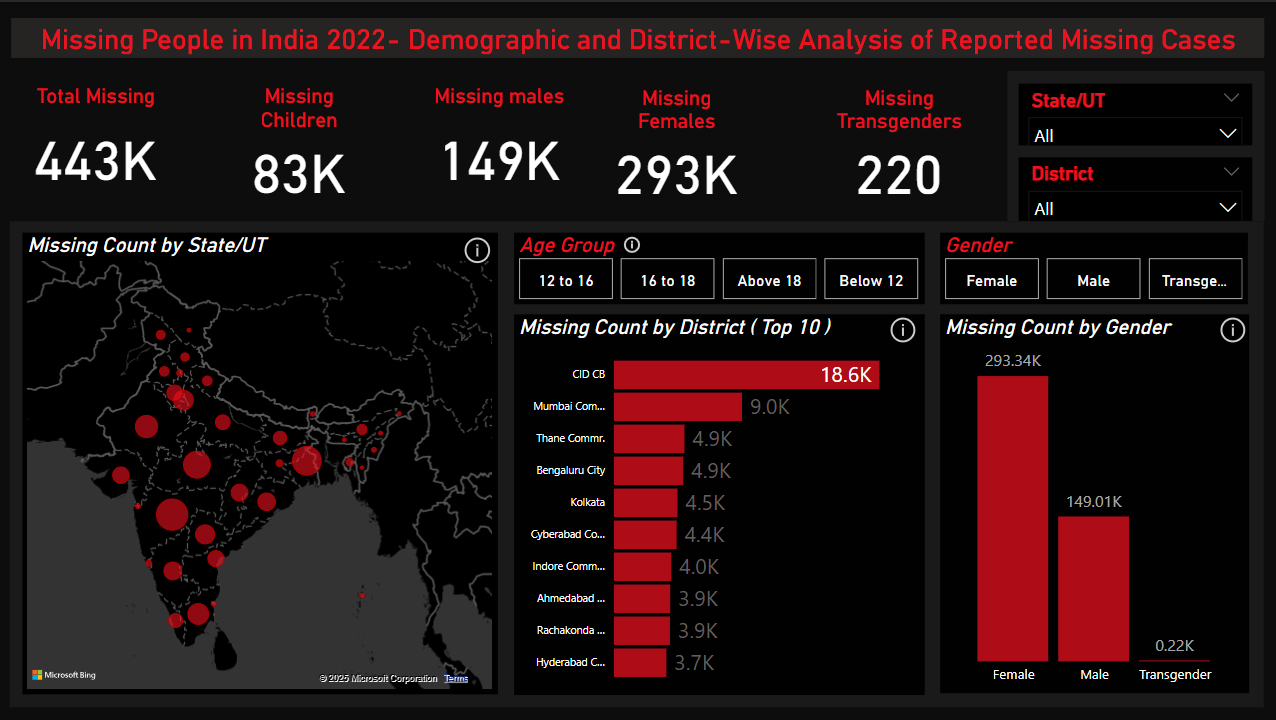

The page's visual inventory and layout, read from the dashboard file:
{"tool":"powerbi","page":{"name":"Page 1","canvas":[1280,720],"ordinal":0},"visuals":[{"type":"textbox","title":"Missing People in India 2022- Demographic and District-Wise Analysis of Reported Missing Cases","box":[11.1,15.5,1255.7,39.9],"z":0},{"type":"shape","box":[503.8,254.3,494.2,300.4],"z":1000},{"type":"textbox","box":[517.7,266.7,465.1,272.7],"z":2000},{"type":"shape","box":[513.8,264.3,494.2,300.4],"z":3000},{"type":"card","title":"Total Missing","fields":{"Values":["Sum(NCRB_District_Table_1 10(Cleaned dataset).Missing_Count)"]},"box":[11.1,82.1,168.6,115.4],"z":4000},{"type":"textbox","box":[527.7,276.7,465.1,272.7],"z":5000},{"type":"card","title":"Missing Children","fields":{"Values":["NCRB_District_Table_1 10(Cleaned dataset).Missing Children"]},"box":[215.2,82.1,168.6,115.4],"z":6000},{"type":"card","title":"Missing males","fields":{"Values":["NCRB_District_Table_1 10(Cleaned dataset).Male Missing"]},"box":[414.9,82.1,168.6,115.4],"z":7000},{"type":"card","title":"Missing Females","fields":{"Values":["NCRB_District_Table_1 10(Cleaned dataset).Female Missing"]},"box":[593.6,84,167.9,114.4],"z":8000},{"type":"card","title":"Missing Transgenders","fields":{"Values":["NCRB_District_Table_1 10(Cleaned dataset).Transgender Missing"]},"box":[794.8,84,212.8,114.4],"z":9000},{"type":"shape","box":[10,219.2,1256.7,486.9],"z":10000},{"type":"shape","box":[1009,68.6,257.7,150.6],"z":11000},{"type":"map","title":"Missing Count by State/UT","fields":{"Category":["NCRB_District_Table_1 10(Cleaned dataset).State/UT"],"Size":["Sum(NCRB_District_Table_1 10(Cleaned dataset).Missing_Count)"]},"box":[22.7,231.4,476.3,462.7],"z":12000},{"type":"clusteredBarChart","title":"Missing Count by District ( Top 10 )","fields":{"Y":["Sum(NCRB_District_Table_1 10(Cleaned dataset).Missing_Count)"],"Category":["NCRB_District_Table_1 10(Cleaned dataset).District"]},"box":[515.4,312.9,411.6,381.5],"z":13000},{"type":"columnChart","title":"Missing Count by Gender","fields":{"Category":["NCRB_District_Table_1 10(Cleaned dataset).Gender"],"Y":["Sum(NCRB_District_Table_1 10(Cleaned dataset).Missing_Count)"]},"box":[942.1,312.9,309.6,379.8],"z":14000},{"type":"slicer","fields":{"Values":["NCRB_District_Table_1 10(Cleaned dataset).State/UT"]},"box":[1020.7,82,234.3,61.9],"z":15000},{"type":"advancedSlicerVisual","title":"Age Group","fields":{"Values":["NCRB_District_Table_1 10(Cleaned dataset).Age_Group"]},"box":[515.4,230.9,411.6,72],"z":16000},{"type":"advancedSlicerVisual","title":"Gender","fields":{"Values":["NCRB_District_Table_1 10(Cleaned dataset).Gender"]},"box":[942.6,231.2,308.7,72],"z":17000},{"type":"slicer","fields":{"Values":["NCRB_District_Table_1 10(Cleaned dataset).District"]},"box":[1020.7,155.6,234.3,63.6],"z":18000},{"type":"actionButton","box":[460.9,231.2,37.4,36],"z":19000},{"type":"actionButton","box":[888,312.1,37.4,35.2],"z":20000},{"type":"actionButton","box":[1217.7,312.1,37.4,35.2],"z":21000},{"type":"actionButton","box":[621.5,231.2,29.1,24.9],"z":30500}]}

Visuals, with their boxes in screenshot pixels (x1, y1, x2, y2), scaled from the page's 1280x720 canvas onto the 1276x720 screenshot:
"Missing People in India 2022- Demographic and District-Wise Analysis of Reported Missing Cases" textbox: (11, 16, 1263, 55)
shape: (502, 254, 995, 555)
textbox: (516, 267, 980, 539)
shape: (512, 264, 1005, 565)
"Total Missing" card: (11, 82, 179, 198)
textbox: (526, 277, 990, 549)
"Missing Children" card: (215, 82, 383, 198)
"Missing males" card: (414, 82, 582, 198)
"Missing Females" card: (592, 84, 759, 198)
"Missing Transgenders" card: (792, 84, 1004, 198)
shape: (10, 219, 1263, 706)
shape: (1006, 69, 1263, 219)
"Missing Count by State/UT" map: (23, 231, 497, 694)
"Missing Count by District ( Top 10 )" clusteredBarChart: (514, 313, 924, 694)
"Missing Count by Gender" columnChart: (939, 313, 1248, 693)
slicer - NCRB_District_Table_1 10(Cleaned dataset).State/UT: (1018, 82, 1251, 144)
"Age Group" advancedSlicerVisual: (514, 231, 924, 303)
"Gender" advancedSlicerVisual: (940, 231, 1247, 303)
slicer - NCRB_District_Table_1 10(Cleaned dataset).District: (1018, 156, 1251, 219)
actionButton: (459, 231, 497, 267)
actionButton: (885, 312, 923, 347)
actionButton: (1214, 312, 1251, 347)
actionButton: (620, 231, 649, 256)
